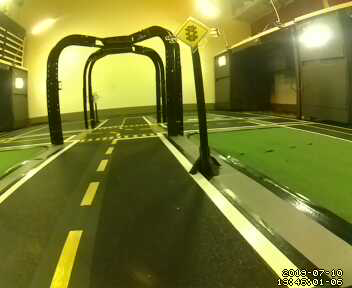Traffic light sign: (175, 16, 211, 48)
